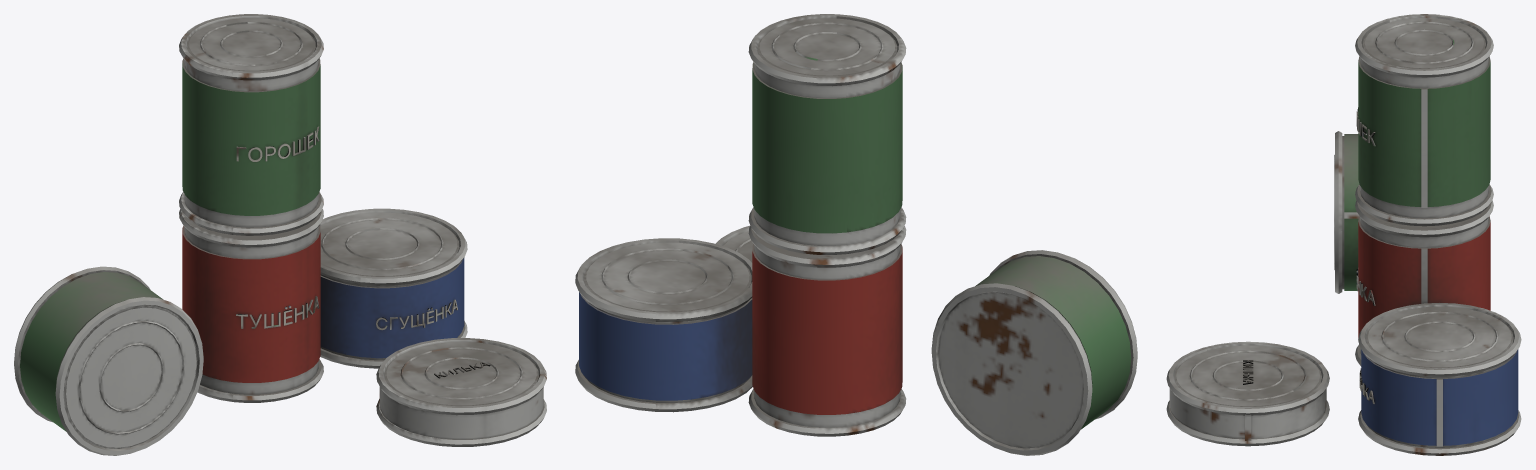
Rendered from SM_CannedFood_Set.fbx.
The picture shows the model from 3 angles, left to right: view 1: azimuth 30°, elevation 25°; view 2: azimuth 150°, elevation 25°; view 3: azimuth 270°, elevation 25°; orthographic projection. The views are drawn at different scales.
Visible parts, largest first — view 1: SM_CannedFood_Set; view 2: SM_CannedFood_Set; view 3: SM_CannedFood_Set.
Part boxes in pixels (x1,y1,x2,y2): SM_CannedFood_Set: (14,14,546,455); SM_CannedFood_Set: (575,14,1137,455); SM_CannedFood_Set: (1166,14,1521,455).
Size of the model in its own units: 0.3266 by 0.232 by 0.2316.
1 material, 1 textured.
